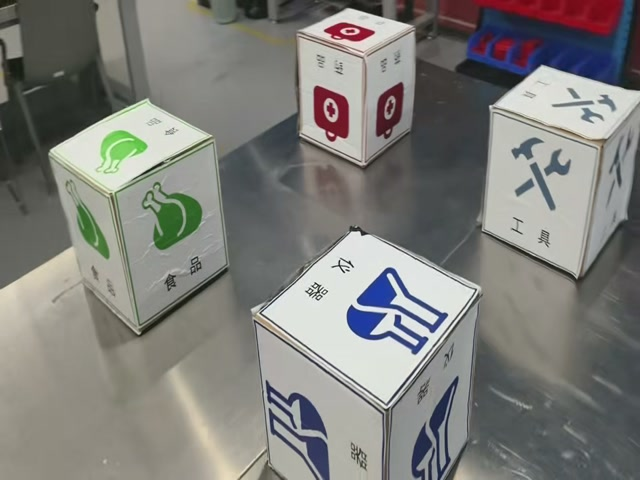Cube_food: (50, 97, 215, 200)
Cube_ins: (252, 222, 484, 412)
Cube_medicine: (297, 8, 416, 58)
Cube_tool: (490, 67, 640, 147)
